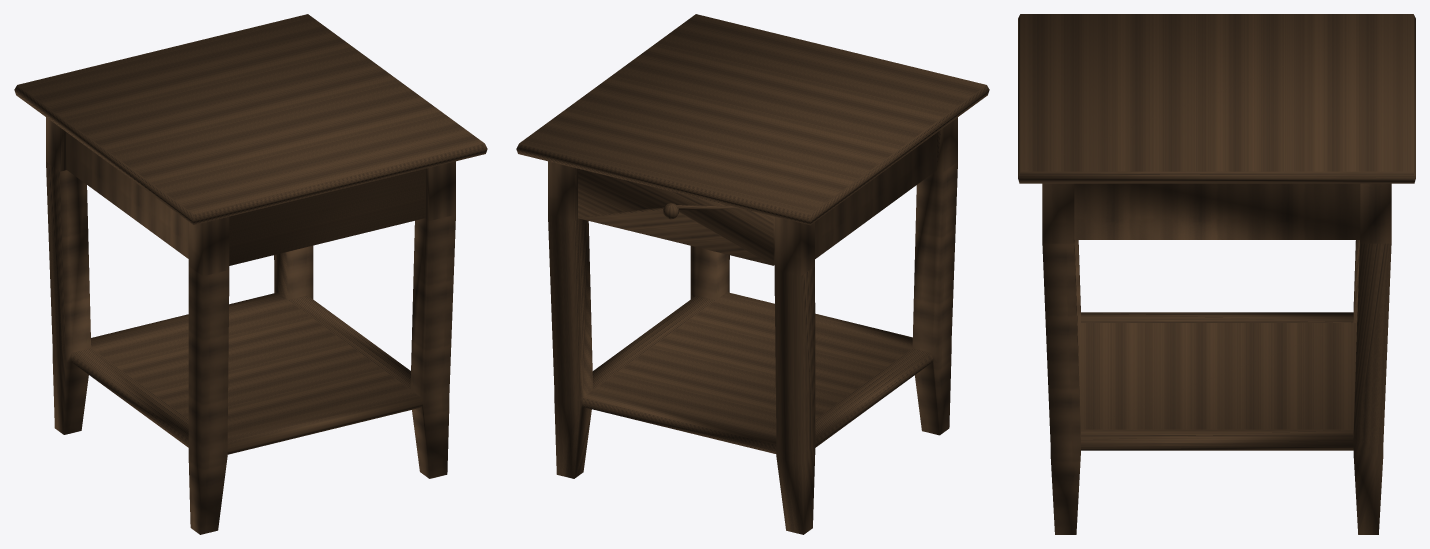
The model's file is nightstand.fbx.
The picture shows the model from 3 angles, left to right: view 1: azimuth 30°, elevation 25°; view 2: azimuth 150°, elevation 25°; view 3: azimuth 270°, elevation 25°; orthographic projection. The views are drawn at different scales.
Parts seen in each view (by area): view 1: Nightstand; view 2: Nightstand; view 3: Nightstand.
Part boxes in pixels (x1=…): Nightstand: x1=14, y1=14, x2=487, y2=534; Nightstand: x1=516, y1=14, x2=989, y2=534; Nightstand: x1=1018, y1=14, x2=1415, y2=534.
Bounding box in the file's own units: 144 × 157 × 151.
1 material, 1 textured.
